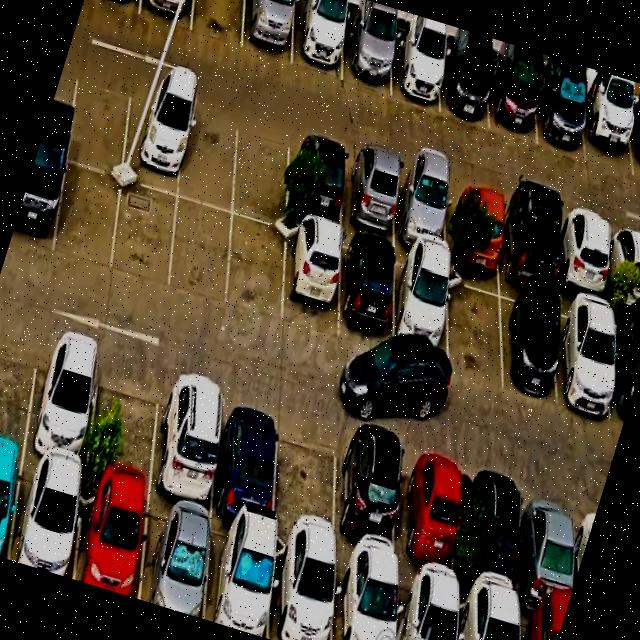empty: (87, 347, 162, 495), (274, 406, 338, 551), (66, 63, 132, 176), (53, 162, 122, 270), (112, 180, 177, 291), (169, 198, 232, 306), (177, 99, 237, 211), (232, 114, 290, 229), (448, 268, 502, 388), (226, 216, 284, 323), (0, 316, 41, 453), (191, 0, 245, 48)
occupied: (23, 327, 101, 474), (151, 367, 223, 514), (212, 386, 281, 529), (336, 423, 403, 570), (398, 440, 460, 588), (9, 457, 82, 579), (74, 478, 146, 599), (139, 497, 210, 619), (204, 517, 274, 638), (467, 459, 524, 605), (121, 81, 189, 195), (521, 475, 575, 617), (282, 218, 341, 338), (558, 294, 613, 419), (269, 535, 334, 640), (337, 233, 394, 352), (393, 250, 447, 372), (500, 282, 556, 399), (9, 148, 67, 254), (288, 130, 345, 228), (502, 192, 555, 292), (334, 557, 396, 640), (344, 146, 396, 241), (450, 176, 500, 273), (581, 83, 633, 176), (396, 160, 446, 254), (560, 207, 608, 301), (537, 67, 585, 160), (291, 0, 346, 80), (489, 53, 537, 144), (439, 42, 489, 128), (390, 27, 439, 111), (396, 572, 456, 640), (342, 13, 391, 94), (242, 0, 294, 65), (612, 309, 640, 427), (459, 589, 517, 640), (610, 221, 640, 310), (0, 451, 23, 559), (139, 0, 193, 30), (519, 606, 564, 640), (626, 96, 640, 178)
